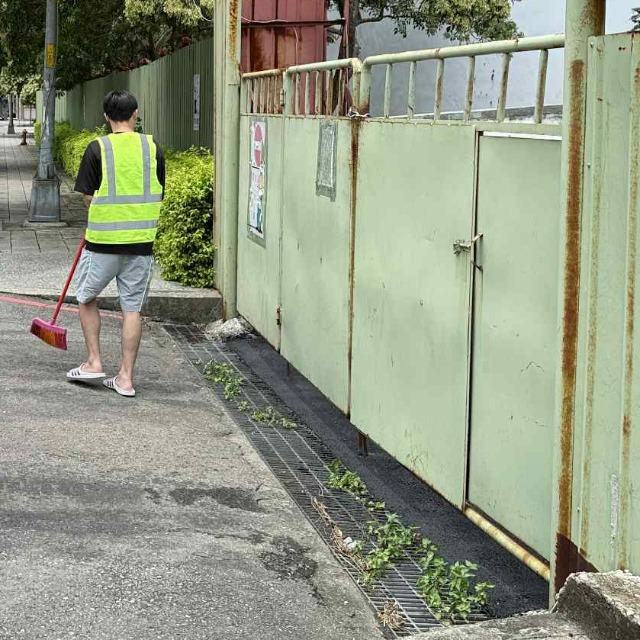NoHelmet: (100, 89, 145, 132)
Vest: (84, 135, 169, 252)
